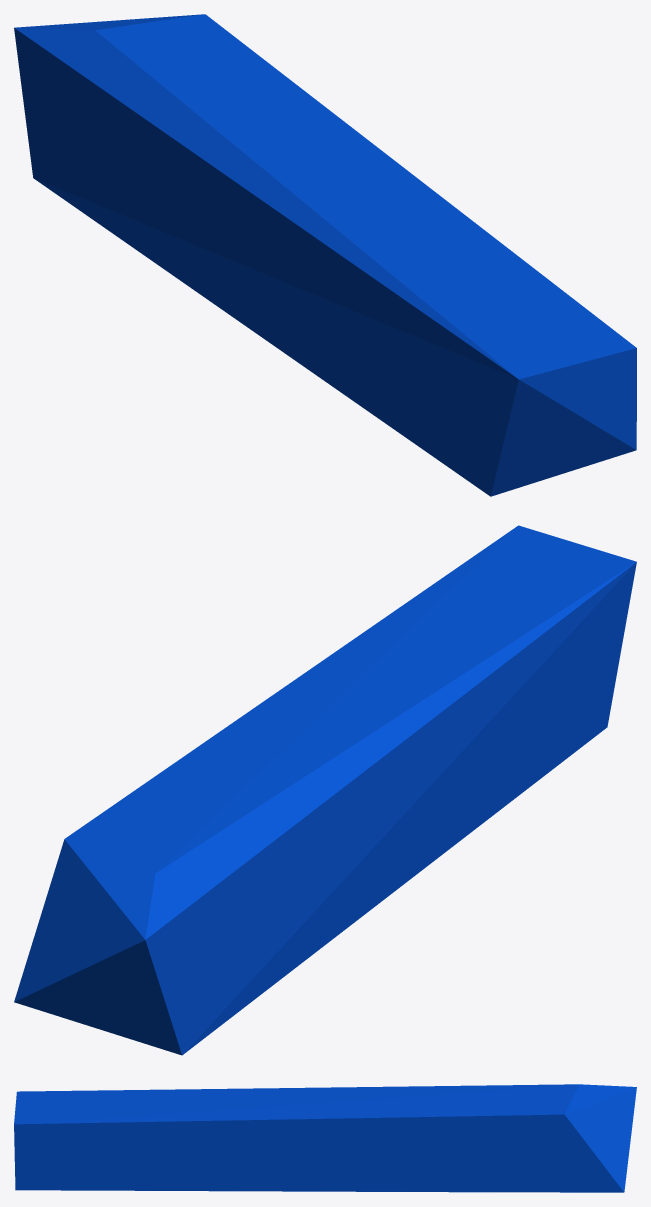
The model's file is organic_bin_convex_piece_007.obj.
The picture shows the model from 3 angles, top to bottom: view 1: azimuth 30°, elevation 25°; view 2: azimuth 150°, elevation 25°; view 3: azimuth 270°, elevation 25°; orthographic projection. The views are drawn at different scales.
Bounding box in the file's own units: 0.0301 × 0.0318 × 0.1776.
